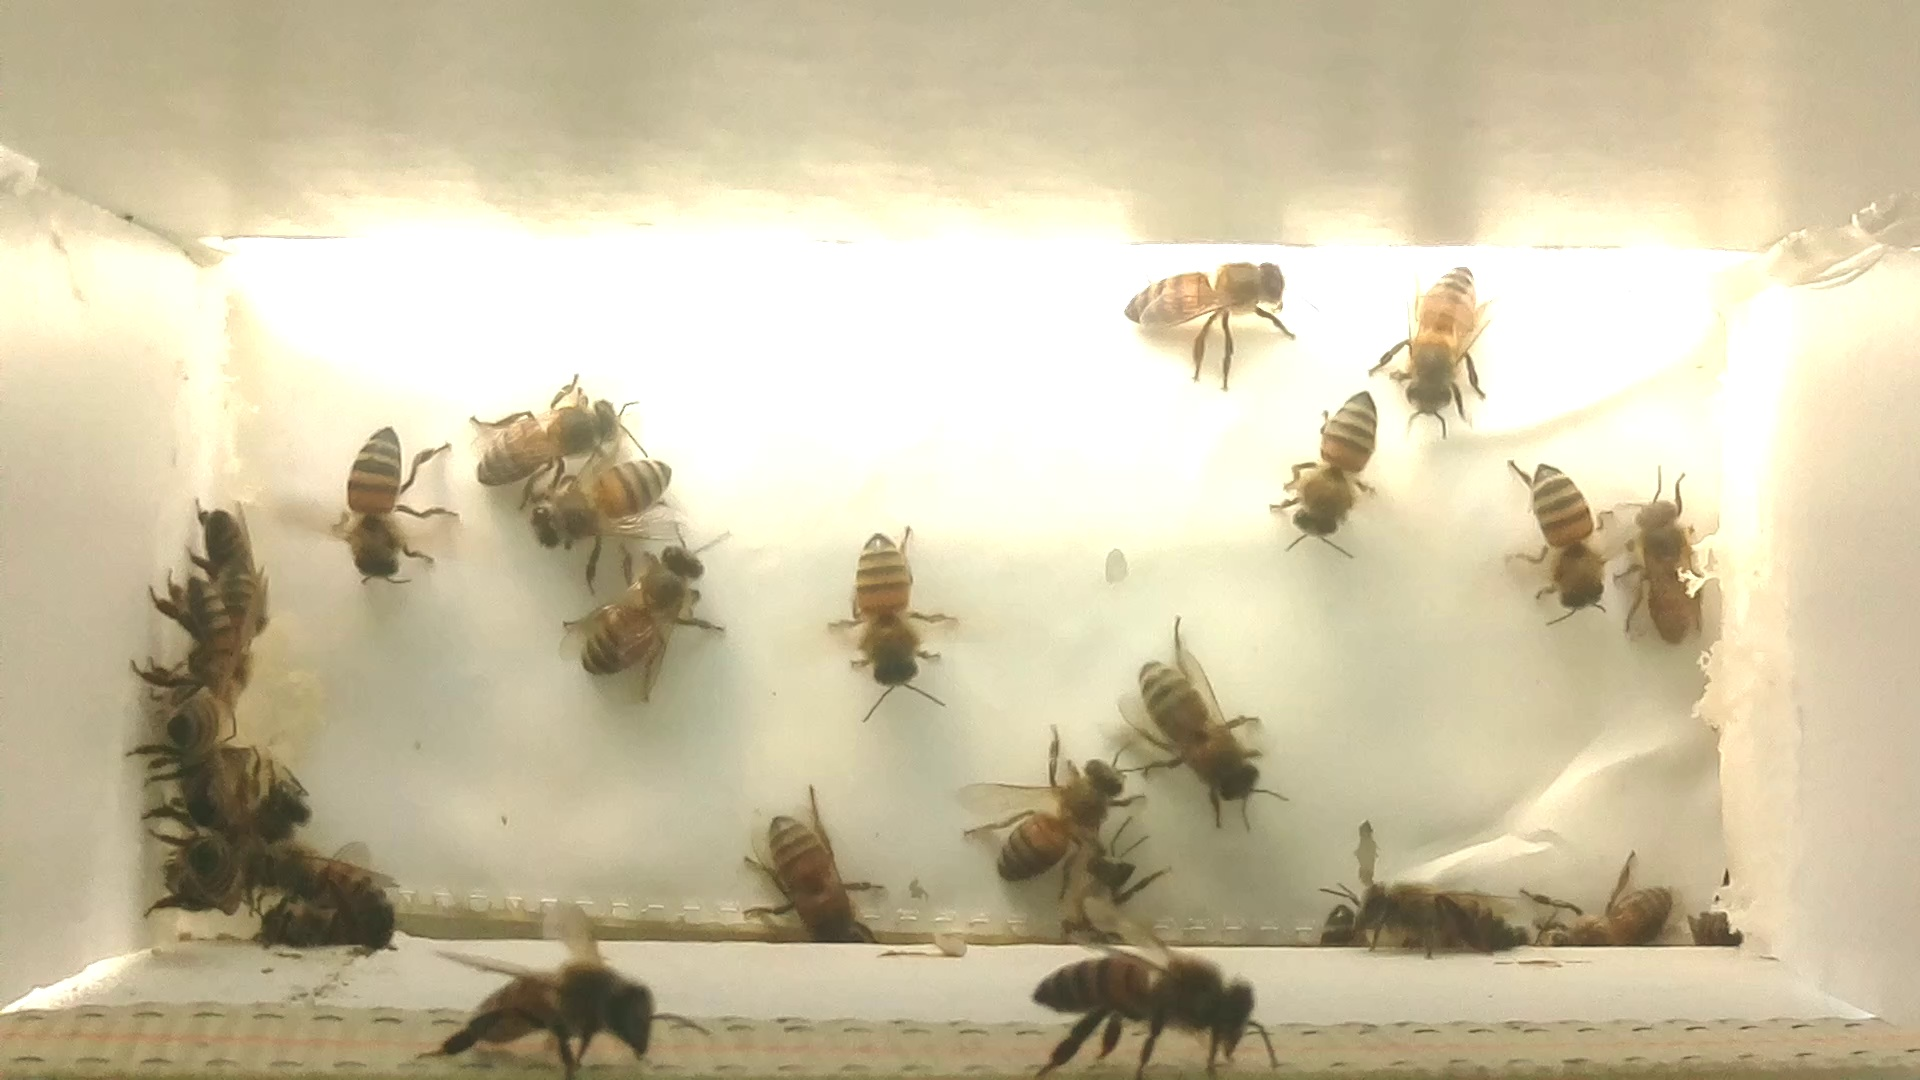bee: (409, 886, 717, 1080), (1011, 894, 1307, 1080), (1096, 609, 1302, 853), (539, 520, 746, 716), (272, 396, 465, 595), (1096, 235, 1304, 400), (812, 514, 957, 733), (727, 779, 903, 957), (957, 711, 1127, 890), (504, 454, 702, 599), (1251, 368, 1387, 568), (451, 369, 651, 498), (1362, 258, 1499, 440), (1487, 444, 1622, 625), (1600, 465, 1726, 644), (1514, 839, 1687, 968), (1336, 866, 1520, 967), (136, 568, 262, 709), (233, 836, 401, 940), (174, 493, 282, 638), (138, 808, 249, 926), (123, 679, 247, 775), (233, 764, 324, 866)
